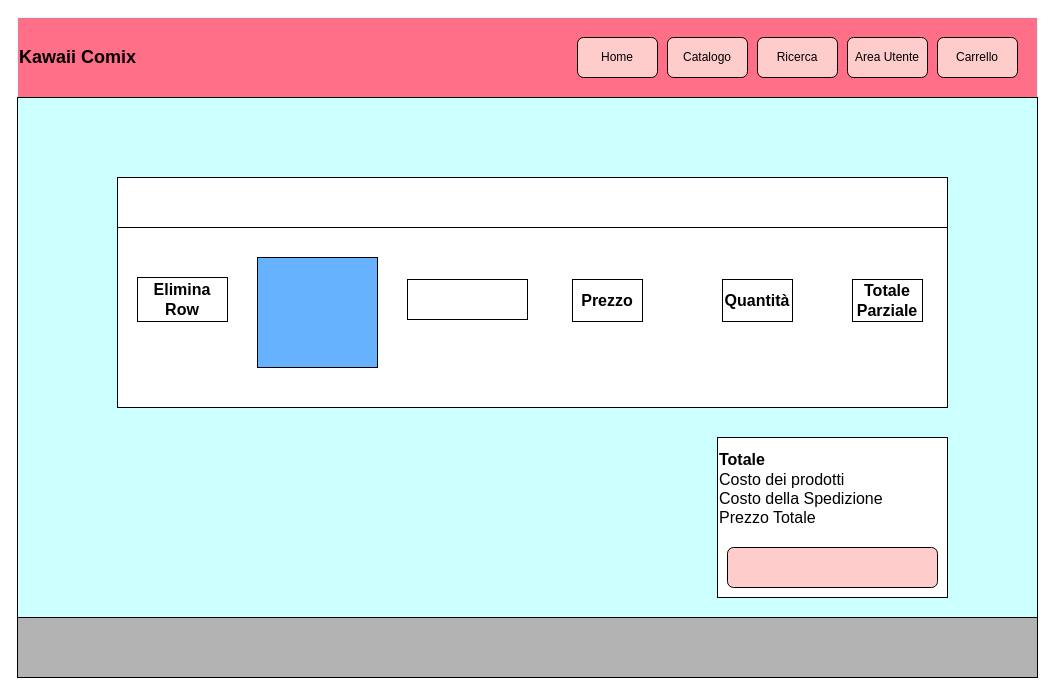
Image size: 1055x695. Some labels were removed from this diagram. Here are the shapes that lost their labels. From the top down, the centre of each, then its label:
(532,202): Elimina Immagine Nome Prezzo Quantità Totale
(317,312): Immagine
(467,299): Nome Prodotto
(832,567): Procedi al Pagamento
(527,647): Footer
